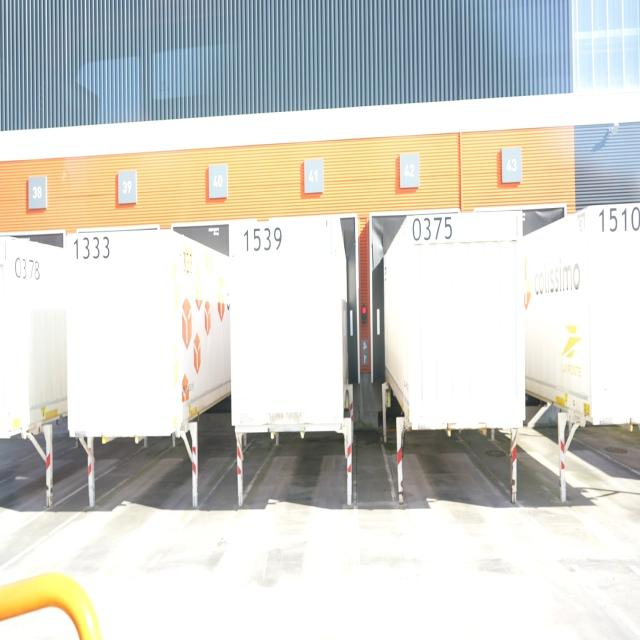Code: (595, 204, 640, 242), (409, 212, 456, 246), (70, 234, 116, 267), (242, 220, 284, 254), (9, 251, 43, 283)
